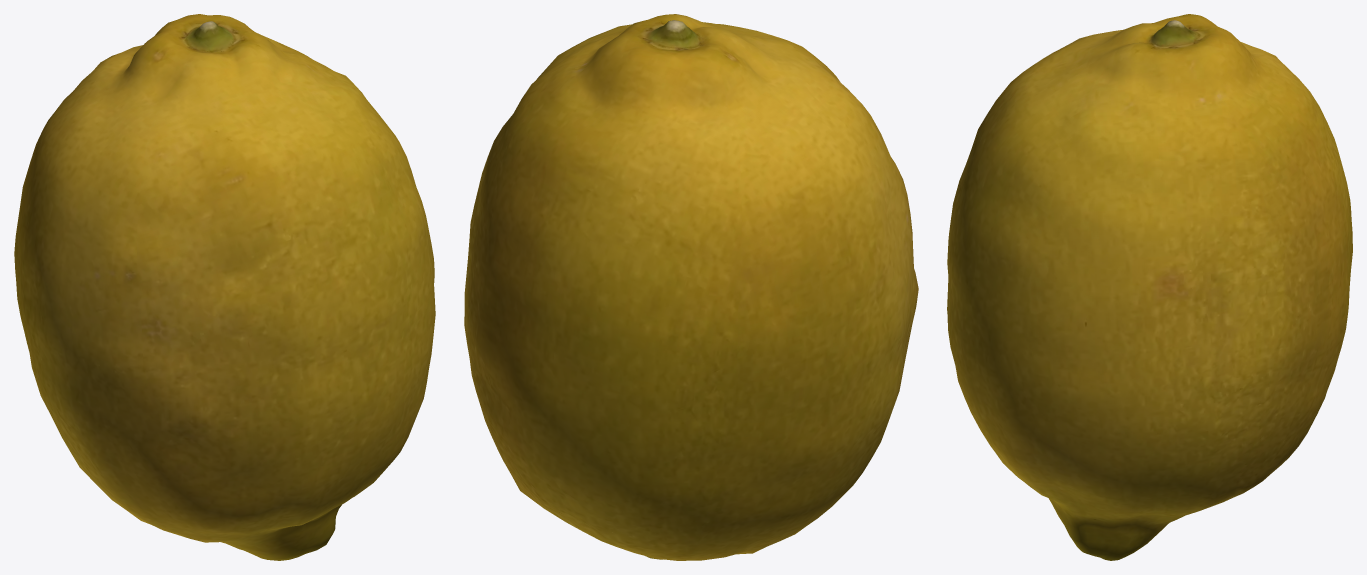
The model's file is lemon.glb.
3 views of the same model, side by side, from view 1: azimuth 30°, elevation 25°; view 2: azimuth 150°, elevation 25°; view 3: azimuth 270°, elevation 25° (orthographic). The views are drawn at different scales.
Parts seen in each view (by area): view 1: lemon; view 2: lemon; view 3: lemon.
Boxes of the visible parts, x1,y1,x2,y2 form: lemon: (14, 14, 435, 560); lemon: (464, 14, 918, 560); lemon: (947, 14, 1352, 560).
Bounding box in the file's own units: 0.0687 × 0.0954 × 0.0683.
Materials: 1 (1 with a texture image).
